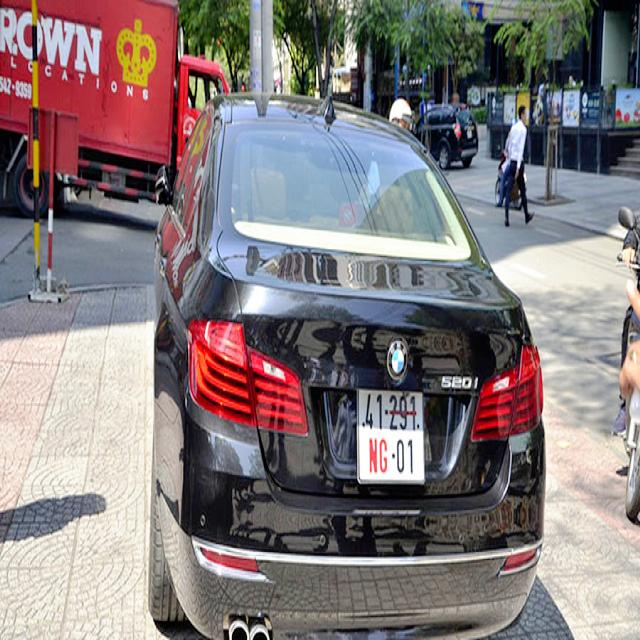license_plate: (358, 392, 425, 481)
